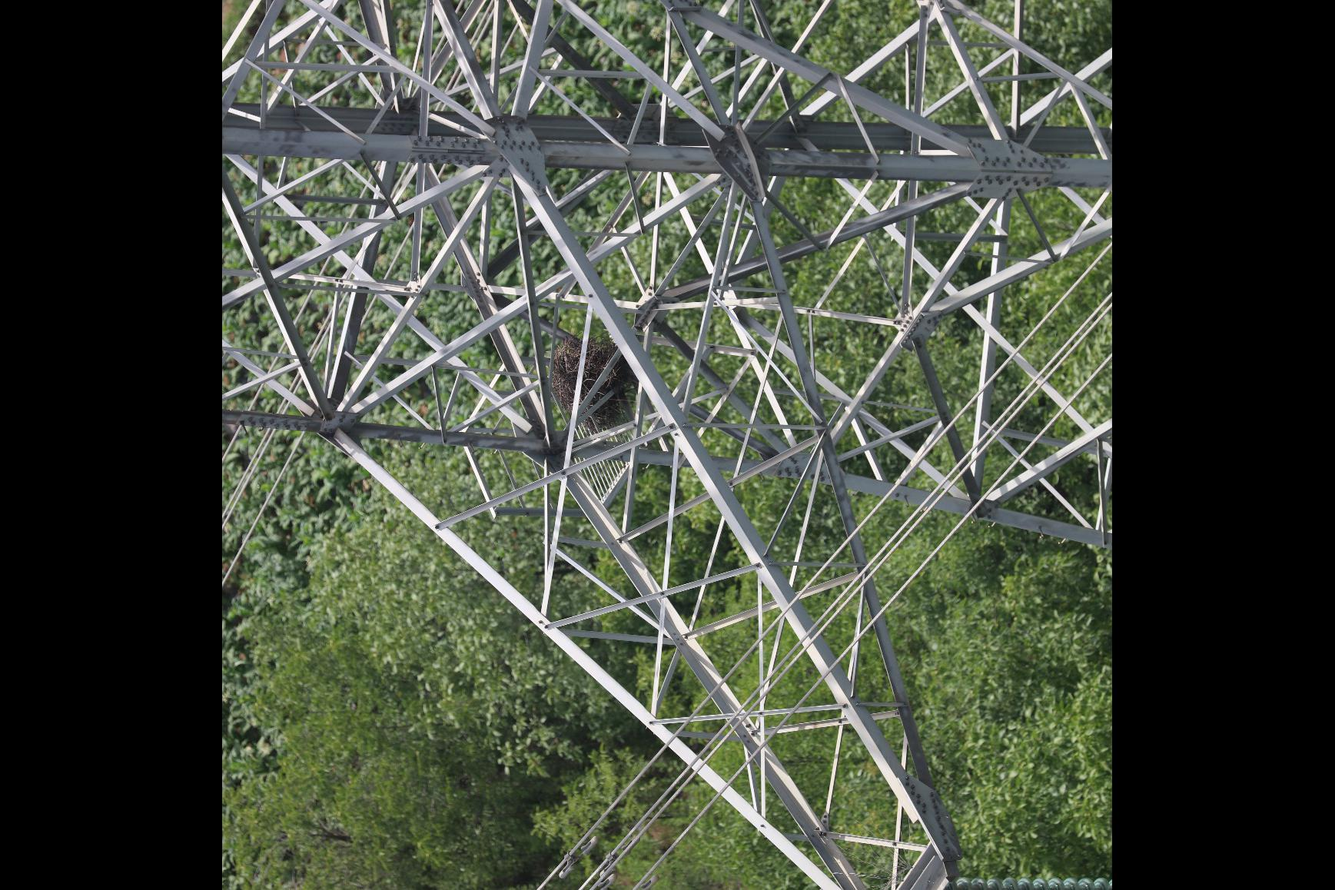damper: (557, 835, 599, 881)
nest: (548, 330, 631, 431)
